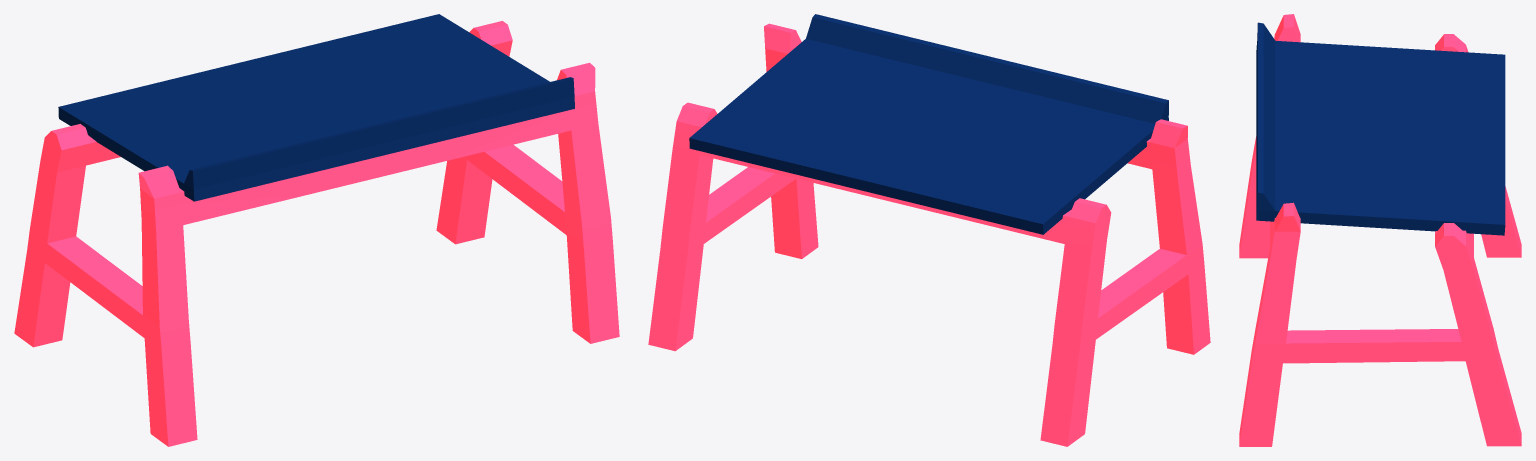
Rendered from Blueprint Desk.fbx.
The picture shows the model from 3 angles, left to right: view 1: azimuth 30°, elevation 25°; view 2: azimuth 150°, elevation 25°; view 3: azimuth 270°, elevation 25°; orthographic projection. The views are drawn at different scales.
Parts seen in each view (by area): view 1: Desk_Legs; view 2: Desk_Legs; view 3: Desk_Legs.
Boxes of the visible parts, x1=… form: Desk_Legs: x1=14, y1=14, x2=619, y2=446; Desk_Legs: x1=648, y1=14, x2=1210, y2=446; Desk_Legs: x1=1239, y1=14, x2=1521, y2=446.
Size of the model in its own units: 97.51 by 53.7 by 57.69.
